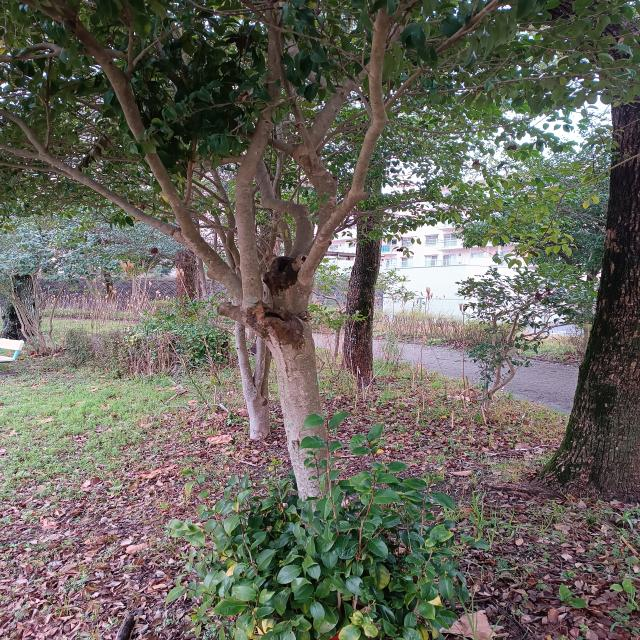Branch: (298, 7, 390, 281), (235, 23, 288, 344), (256, 161, 314, 265), (181, 226, 244, 306), (261, 260, 313, 334), (217, 302, 244, 325)
Twig: (59, 5, 194, 235), (38, 149, 176, 237), (0, 109, 45, 153), (0, 141, 40, 159)
